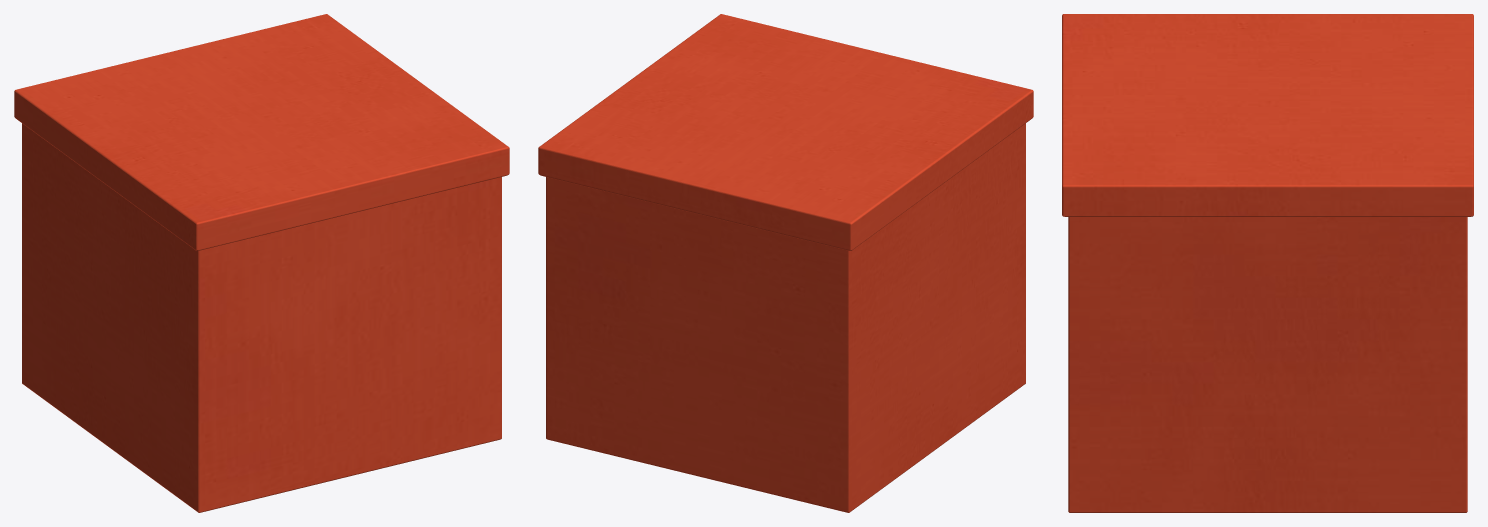
File: red_box.obj
The picture shows the model from 3 angles, left to right: view 1: azimuth 30°, elevation 25°; view 2: azimuth 150°, elevation 25°; view 3: azimuth 270°, elevation 25°; orthographic projection. The views are drawn at different scales.
Visible parts, largest first — view 1: o_Storagebox_Box_blue_0; view 2: o_Storagebox_Box_blue_0; view 3: o_Storagebox_Box_blue_0.
Part boxes in pixels (box(x1,y1,x2,y2)): o_Storagebox_Box_blue_0: box(14, 14, 509, 512); o_Storagebox_Box_blue_0: box(538, 14, 1033, 512); o_Storagebox_Box_blue_0: box(1062, 14, 1473, 512).
Size of the model in its own units: 0.3087 by 0.2761 by 0.3117.
Materials: 1 (1 with a texture image).
